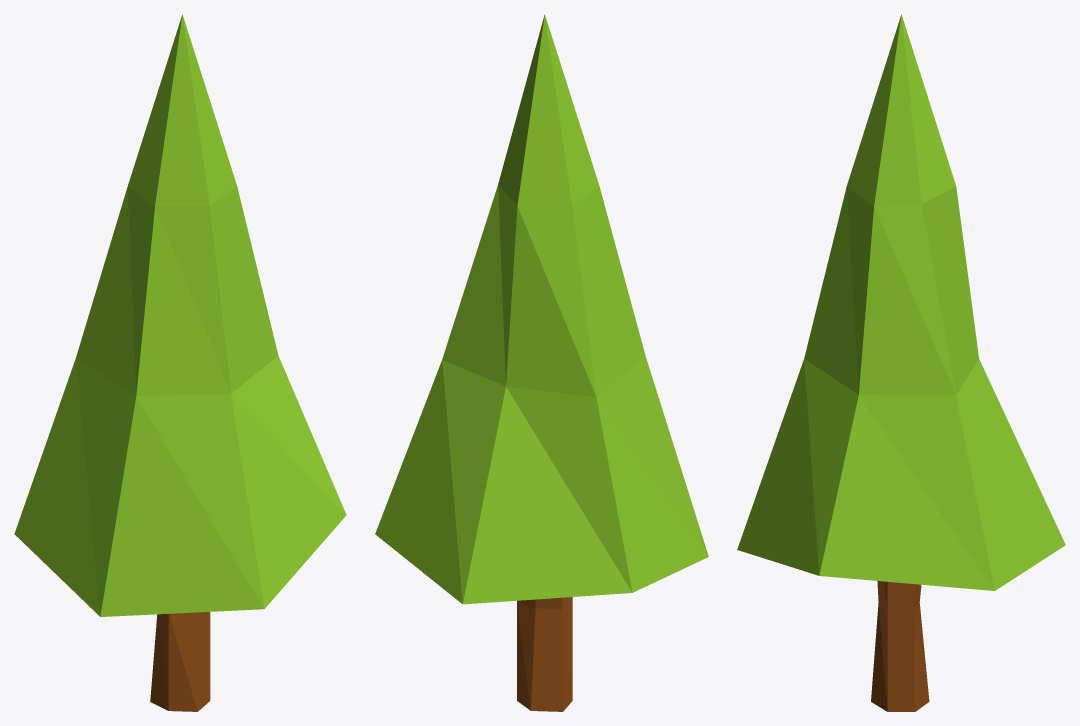
Rendered from pinetree.obj.
The picture shows the model from 3 angles, left to right: view 1: azimuth 30°, elevation 25°; view 2: azimuth 150°, elevation 25°; view 3: azimuth 270°, elevation 25°; orthographic projection.
Bounding box in the file's own units: 44.14 × 115 × 50.
